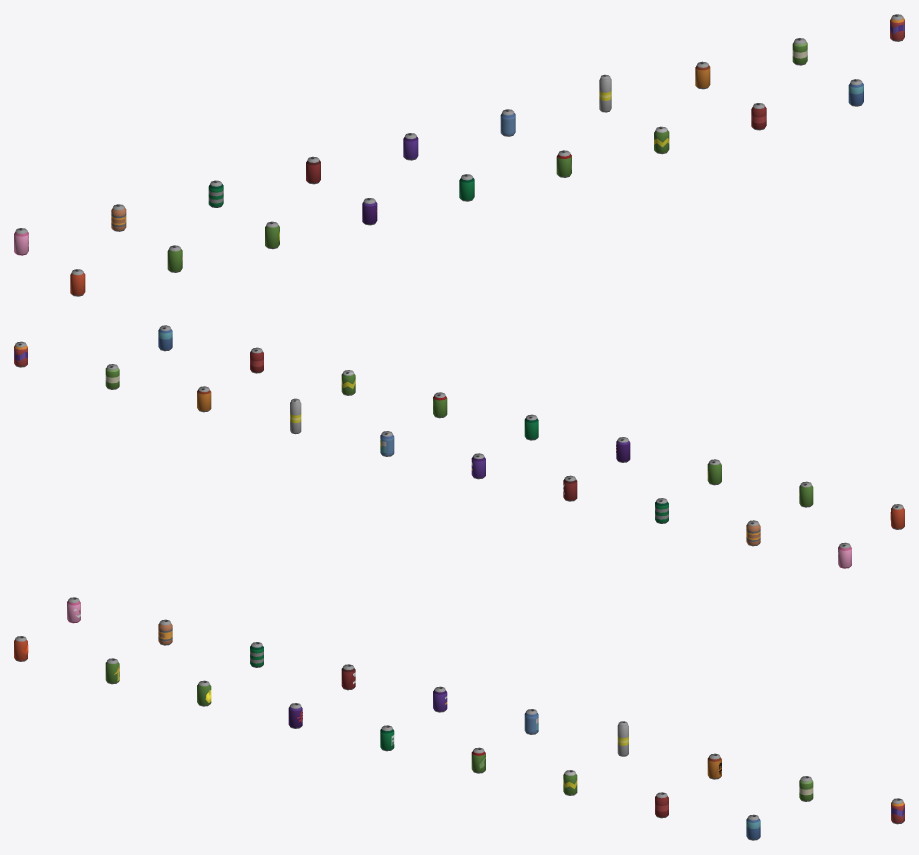
The model's file is soda.fbx.
3 views of the same model, one above another, from view 1: azimuth 30°, elevation 25°; view 2: azimuth 150°, elevation 25°; view 3: azimuth 330°, elevation 25° (orthographic). The views are drawn at different scales.
Size of the model in its own units: 9.12 by 0.331 by 1.12.
